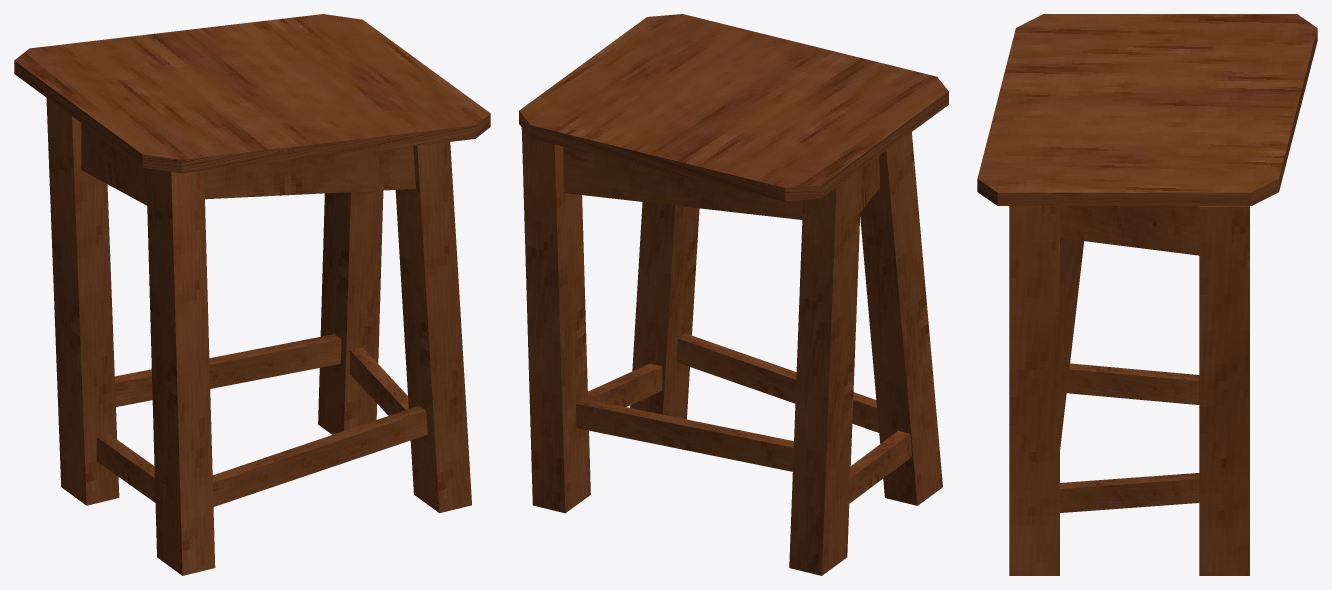
File: Stool.glb
3 views of the same model, side by side, from view 1: azimuth 30°, elevation 25°; view 2: azimuth 150°, elevation 25°; view 3: azimuth 270°, elevation 25° (orthographic).
Visible parts, largest first — view 1: Cube.027, Cube.038, Cube.035, Cube.039, Cube.034, Cube.029, Cube.033, Cube.032, Cube.030, Cube.036, Cube.037; view 2: Cube.027, Cube.035, Cube.034, Cube.038, Cube.039, Cube.028, Cube.032, Cube.033, Cube.036, Cube.037, Cube.030; view 3: Cube.027, Cube.034, Cube.039, Cube.031, Cube.037, Cube.036, Cube.038.
Part boxes in pixels (x1,y1,x2,y2): Cube.027: (14,14,490,173); Cube.038: (146,168,215,575); Cube.035: (46,97,119,505); Cube.039: (395,142,471,513); Cube.034: (318,190,383,434); Cube.029: (204,146,415,199); Cube.033: (212,406,427,506); Cube.032: (114,334,341,406); Cube.030: (81,123,147,205); Cube.036: (96,434,165,505); Cube.037: (350,347,408,415); Cube.027: (519,14,948,201); Cube.035: (789,168,861,575); Cube.034: (521,127,590,513); Cube.038: (860,132,942,505); Cube.039: (630,202,699,419); Cube.028: (563,147,802,219); Cube.032: (576,398,793,471); Cube.033: (676,333,879,432); Cube.036: (849,425,922,503); Cube.037: (588,363,662,406); Cube.030: (860,156,880,211); Cube.027: (977,14,1317,205); Cube.034: (1199,206,1249,575); Cube.039: (1009,206,1059,575); Cube.031: (1060,206,1199,255); Cube.037: (1060,473,1199,512); Cube.036: (1066,363,1199,404); Cube.038: (1060,238,1084,449).
Size of the model in its own units: 1.58 by 1.93 by 1.45.
1 material, 1 textured.
